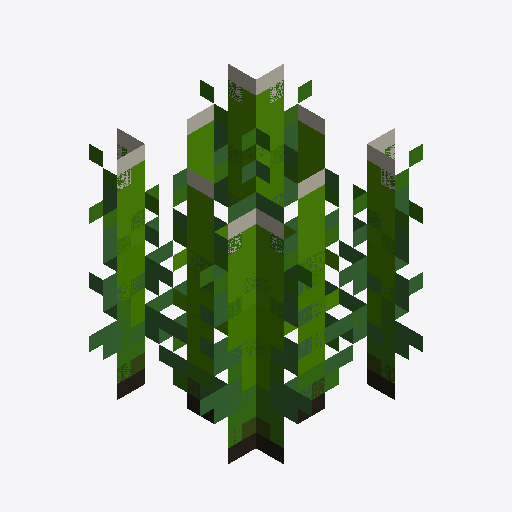
A Minecraft block model of 4 cuboids, rendered isometrically (azimuth 45°, elevation 35.3°) with the resource pack's own textures.
Parts seen in each view (by area): element 1, element 4, element 2, element 3.
Boxes of the visible parts, <box> form: element 1: <box>89,128,311,463</box>; element 4: <box>200,128,422,463</box>; element 2: <box>200,64,422,399</box>; element 3: <box>89,64,311,399</box>.
Bounding box in the file's own units: 16 × 16 × 16.